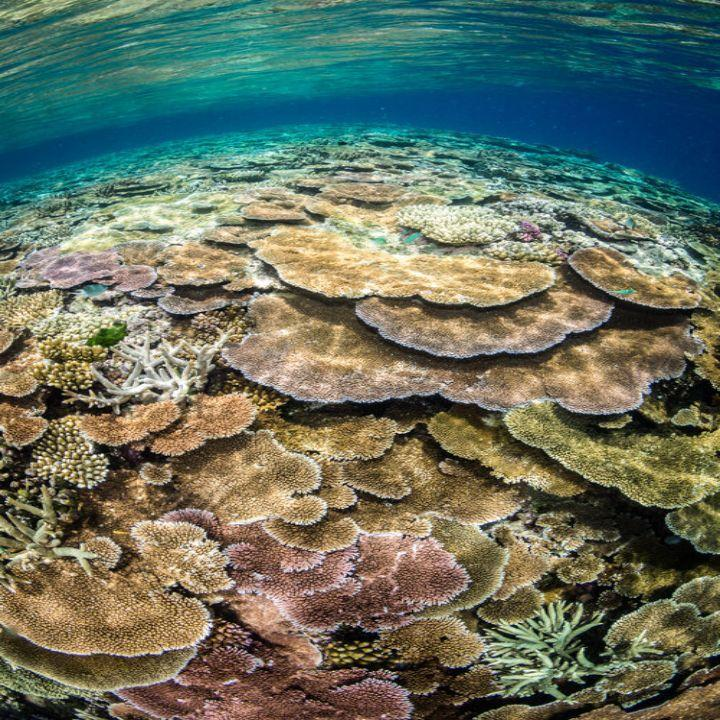Healthy Coral: (12, 197, 712, 710)
